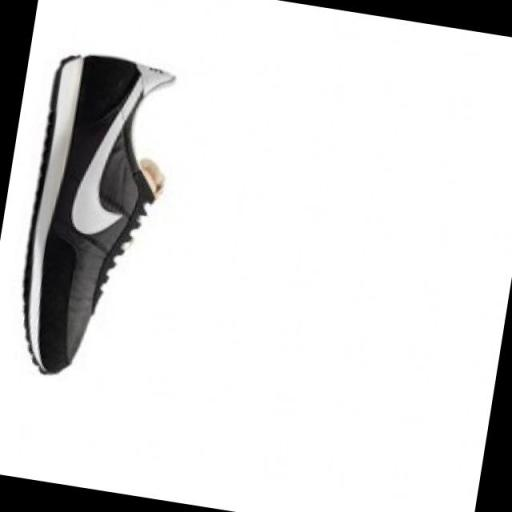Nike: (62, 58, 150, 246)
